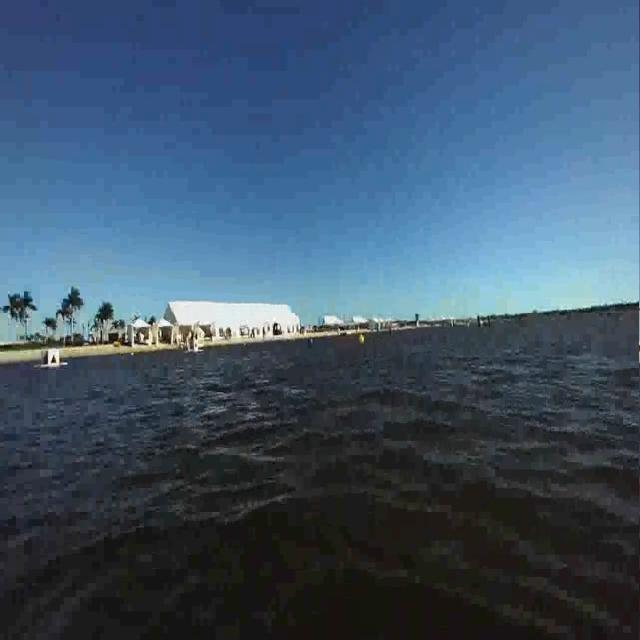yellow-buoy: (358, 335, 365, 347)
